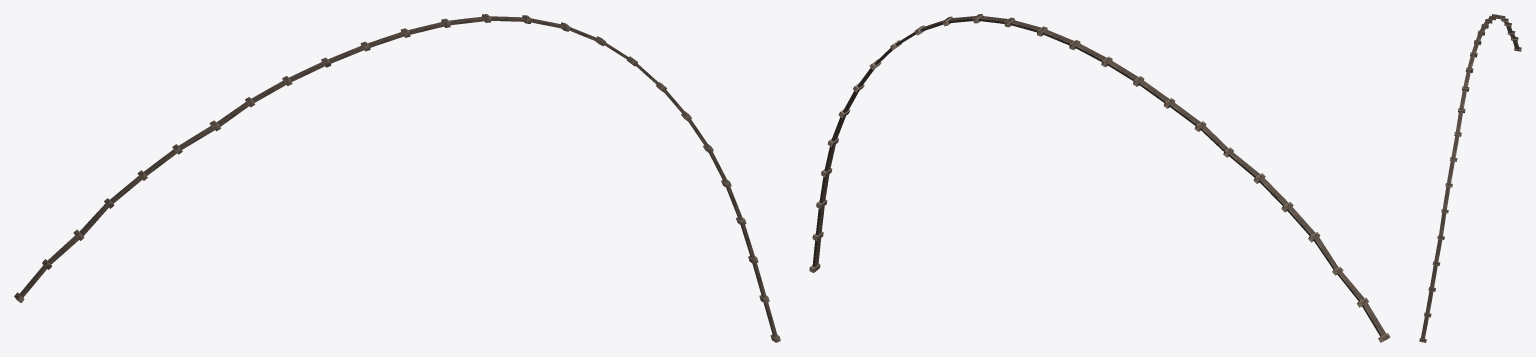
File: drvena_ograda.glb
3 renders of one model, left to right at view 1: azimuth 30°, elevation 25°; view 2: azimuth 150°, elevation 25°; view 3: azimuth 270°, elevation 25°, orthographic. The views are drawn at different scales.
Parts seen in each view (by area): view 1: Background_Tree_Atlas.018_Wood_Fence_0; view 2: Background_Tree_Atlas.018_Wood_Fence_0; view 3: Background_Tree_Atlas.018_Wood_Fence_0.
Part boxes in pixels (x1,y1,x2,y2): Background_Tree_Atlas.018_Wood_Fence_0: [14, 14, 780, 342]; Background_Tree_Atlas.018_Wood_Fence_0: [809, 14, 1390, 342]; Background_Tree_Atlas.018_Wood_Fence_0: [1419, 14, 1521, 342].
Size of the model in its own units: 45.49 by 22.69 by 9.7.
1 material, 1 textured.
